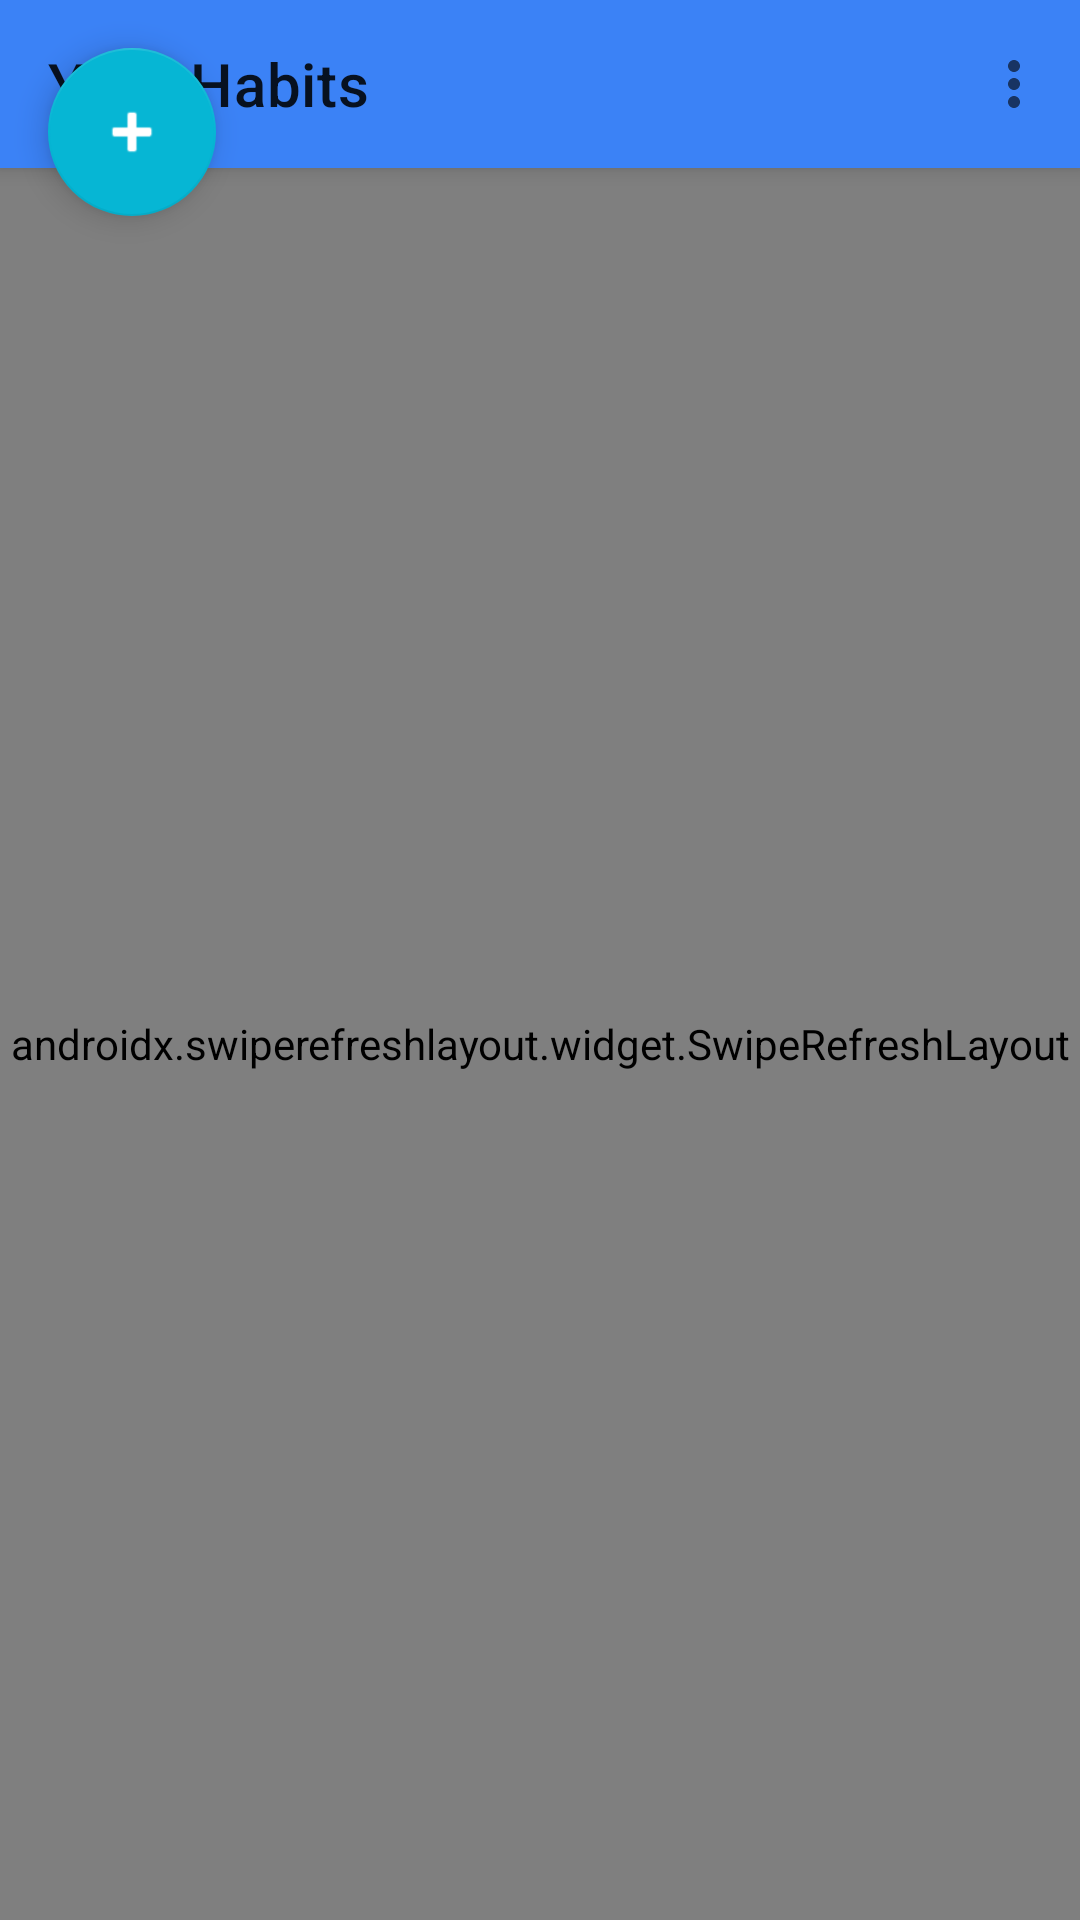

Icons on this 1080px x 1920px Android screen, each with the point to tap as [x,y]:
Add habit: [132,132]
